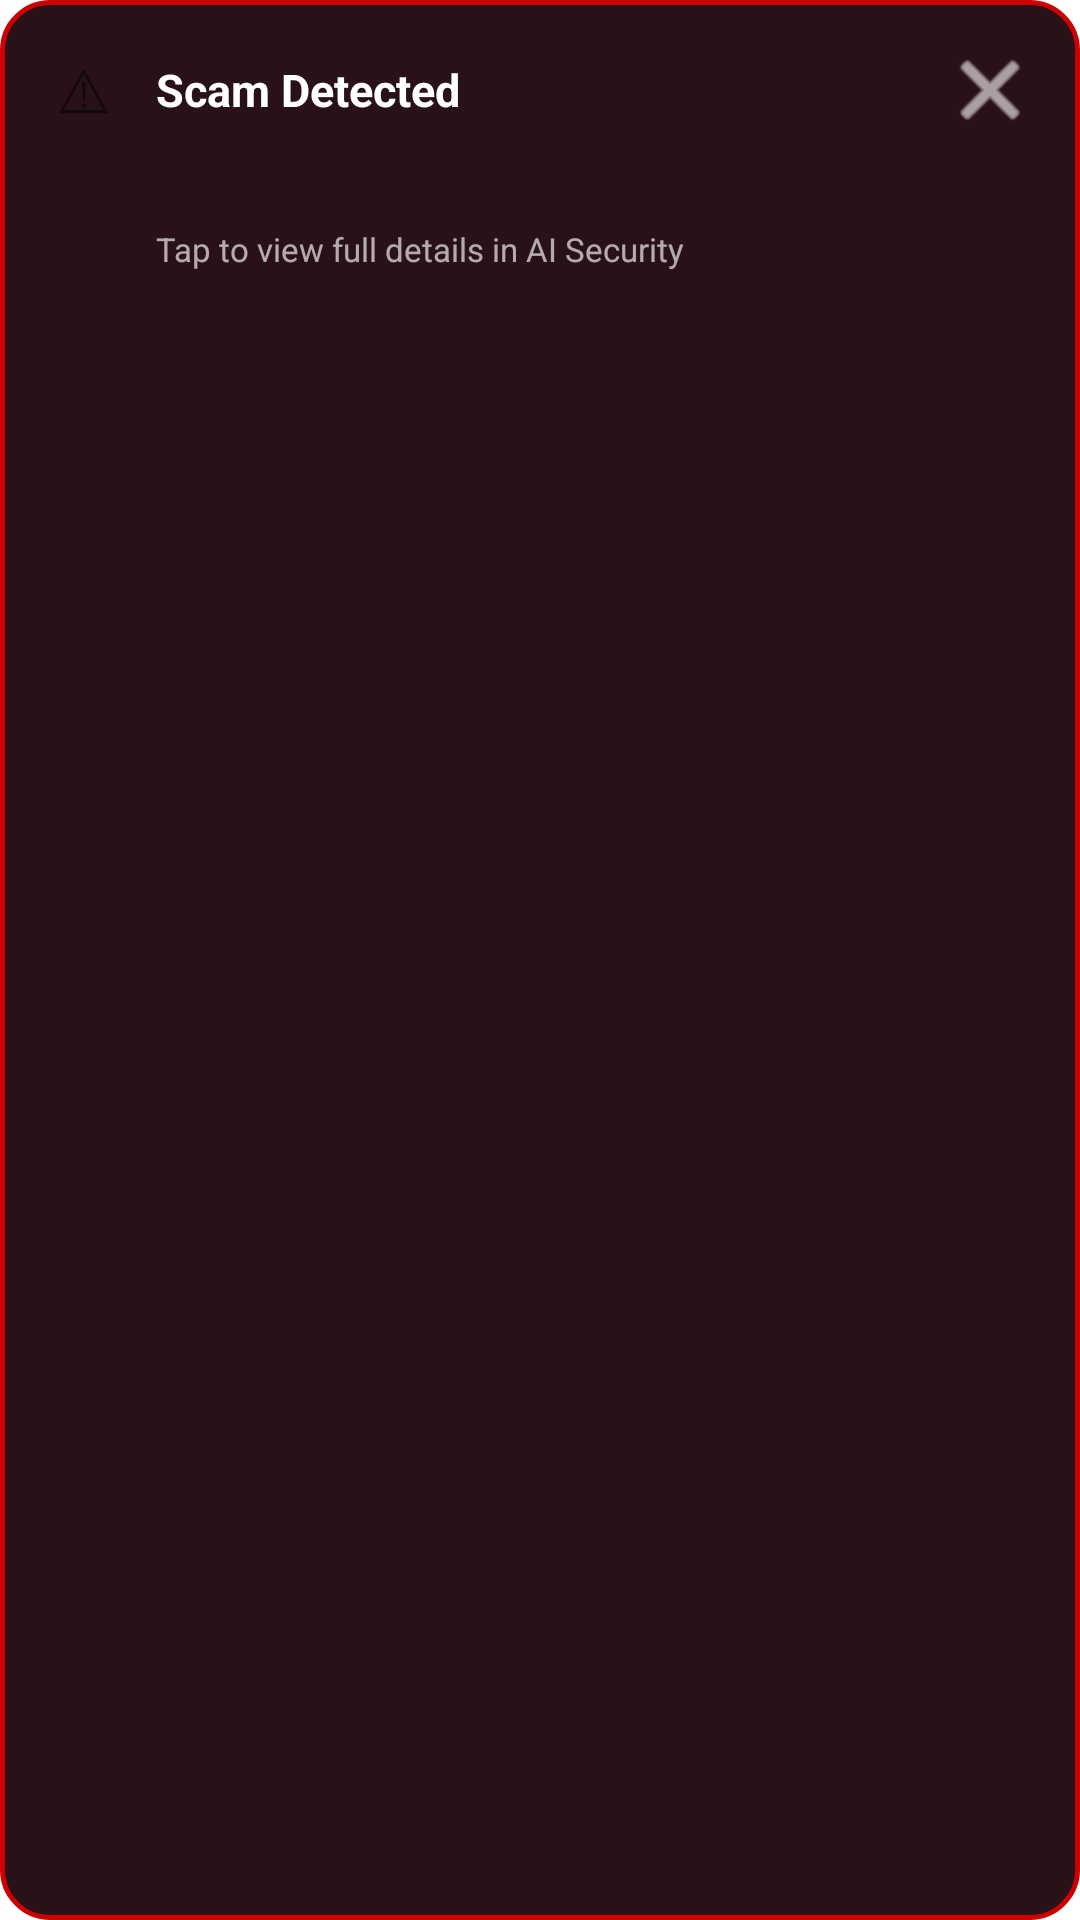

Locate icon controls on the screen. Image size 1080px x 1920px, boxes as detection(x1, y1, x2, y2).
Dismiss: detection(960, 60, 1020, 120)
